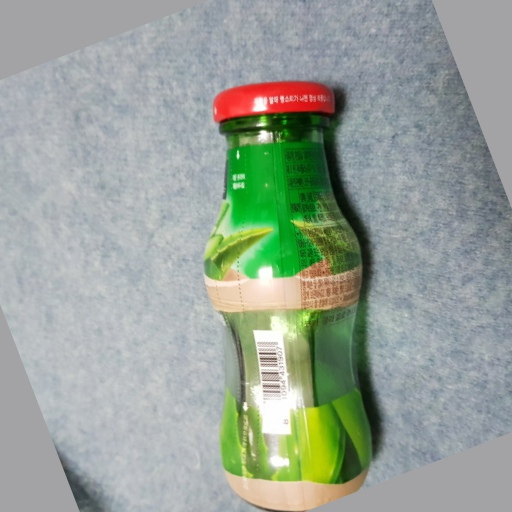Glass_4: (198, 79, 384, 507)
